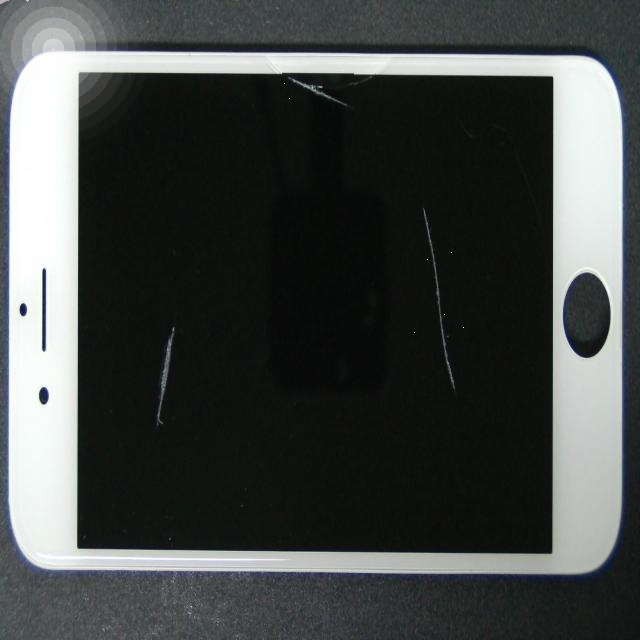scratch: (191, 52, 625, 406), (76, 226, 229, 640), (208, 49, 491, 120)
